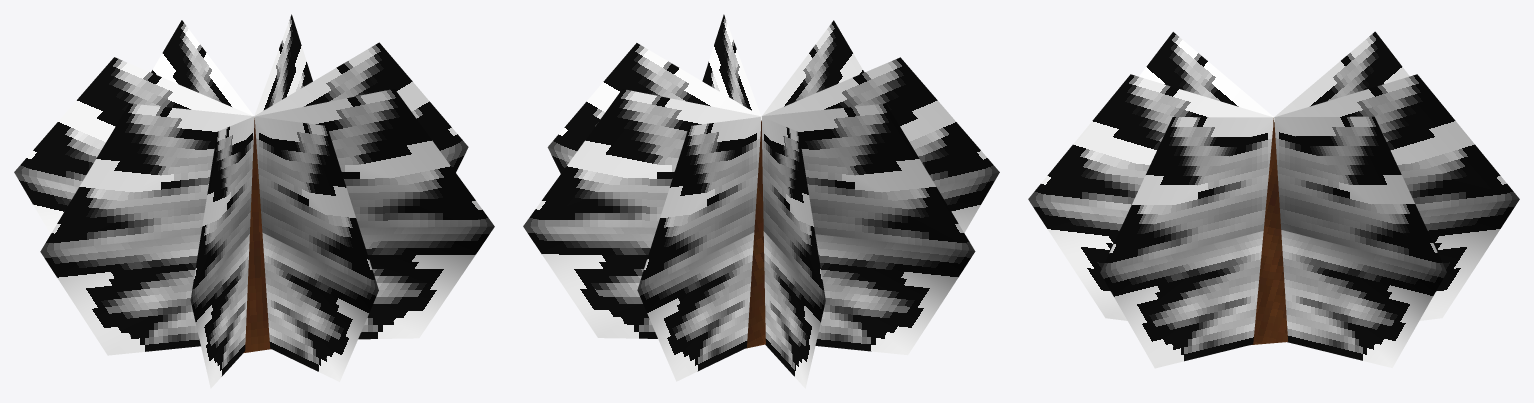
File: Shrub.fbx
3 renders of one model, left to right at view 1: azimuth 30°, elevation 25°; view 2: azimuth 150°, elevation 25°; view 3: azimuth 270°, elevation 25°, orthographic.
Visible parts, largest first — view 1: Shrub; view 2: Shrub; view 3: Shrub.
Boxes of the visible parts, x1,y1,x2,y2 form: Shrub: [14, 14, 494, 388]; Shrub: [523, 14, 999, 388]; Shrub: [1028, 31, 1519, 368].
Bounding box in the file's own units: 1.9 × 1.91 × 1.13.
